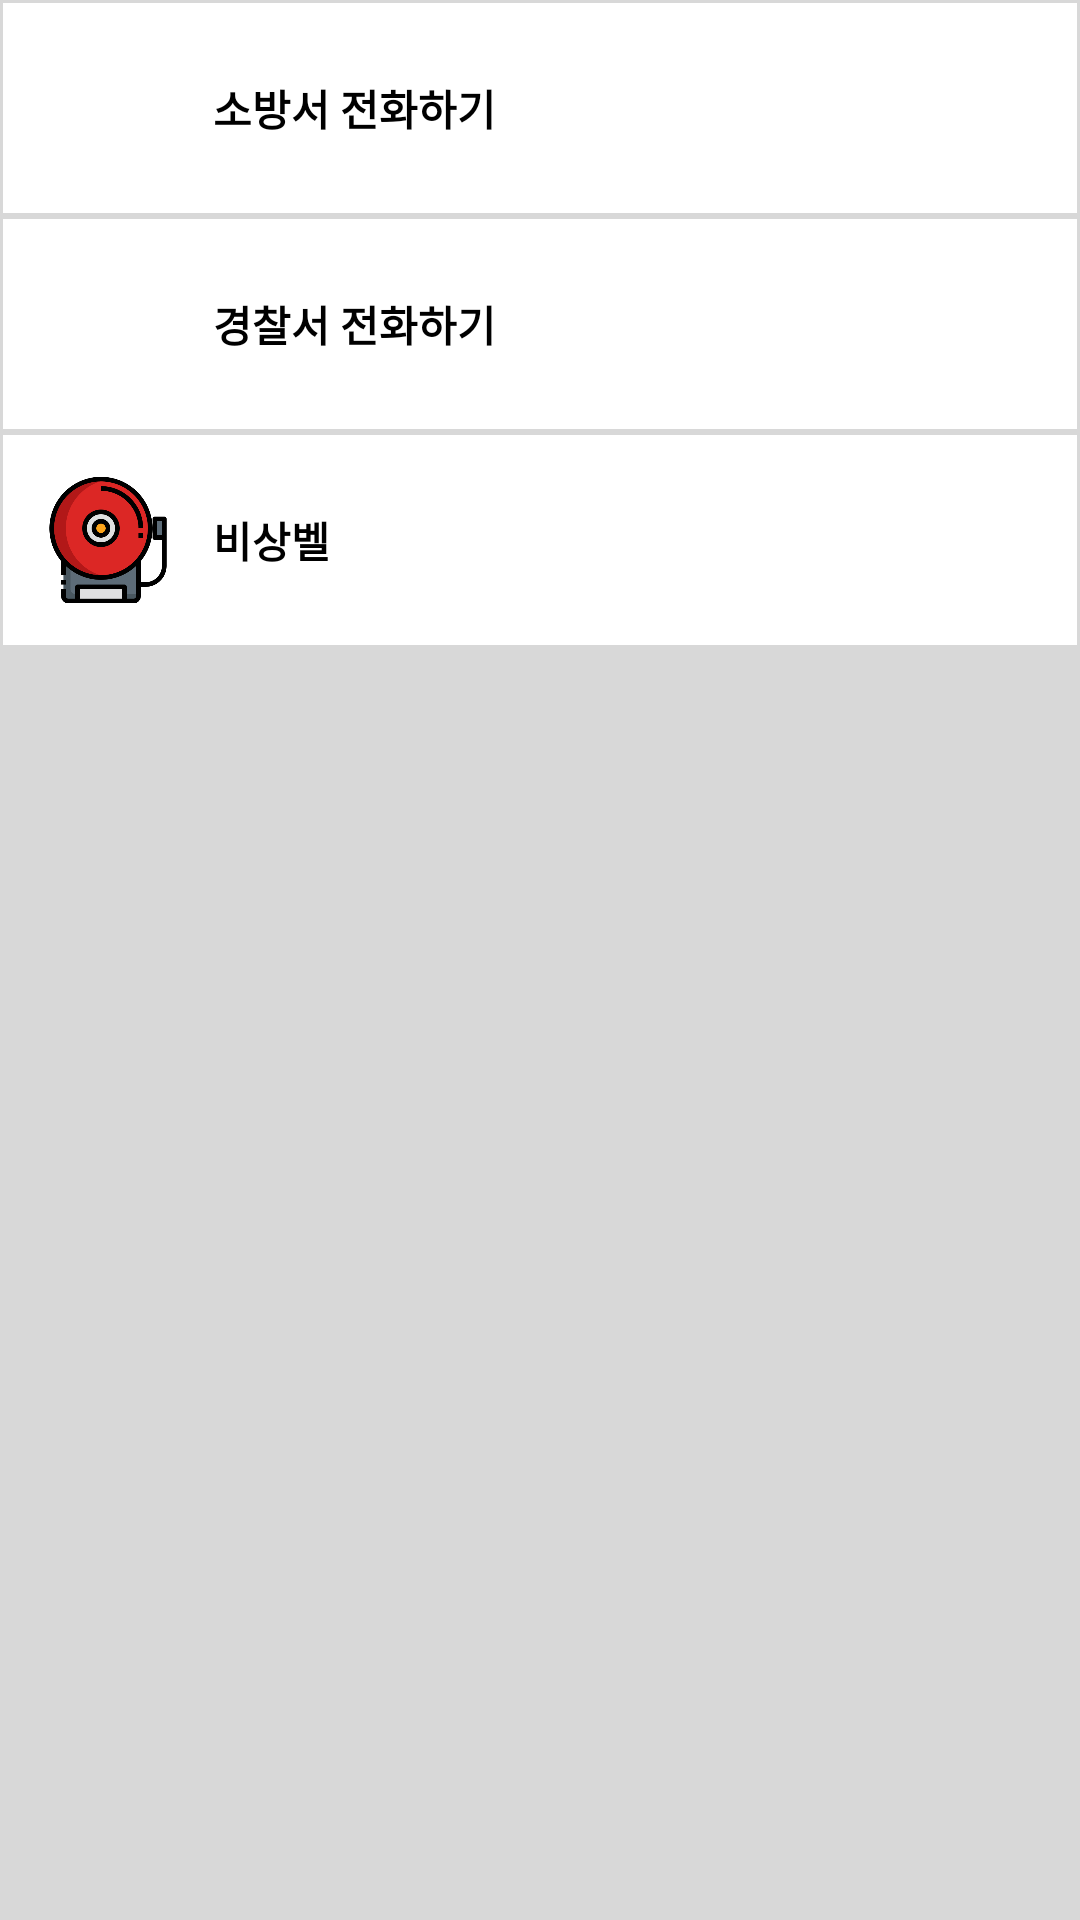

Named icons in this screenshot (1080×1920) and their centers, (x=x, y=y):
fire alarm: (x=108, y=540)
